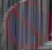No waiting: (6, 1, 51, 46)
